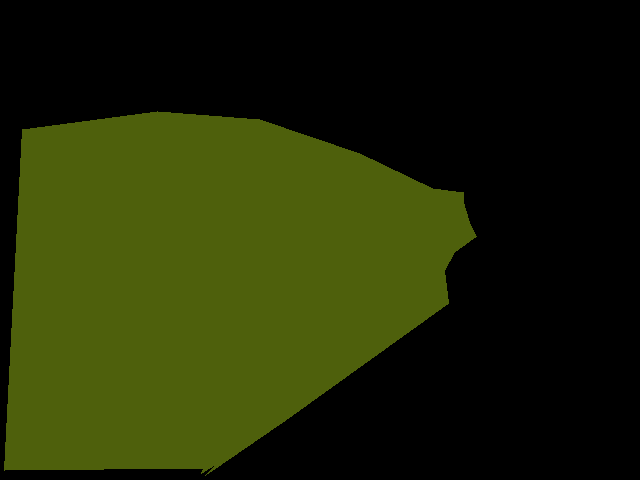Train: (4, 111, 477, 475)
